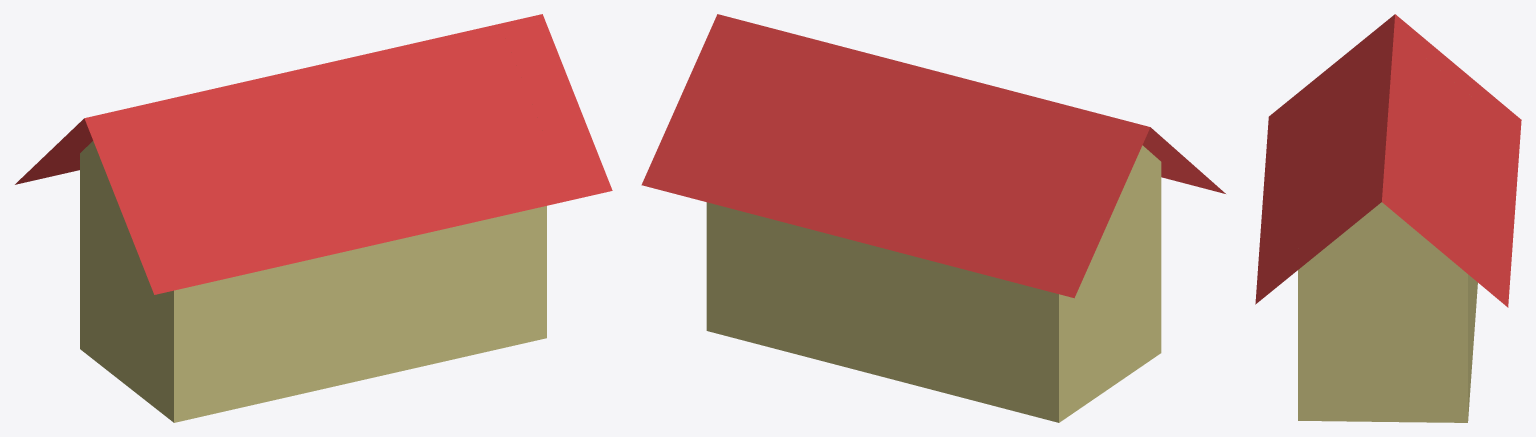
3 views of the same model, side by side, from view 1: azimuth 30°, elevation 25°; view 2: azimuth 150°, elevation 25°; view 3: azimuth 270°, elevation 25° (orthographic). The views are drawn at different scales.
Bounding box in the file's own units: 10.92 × 6.42 × 6.32.
